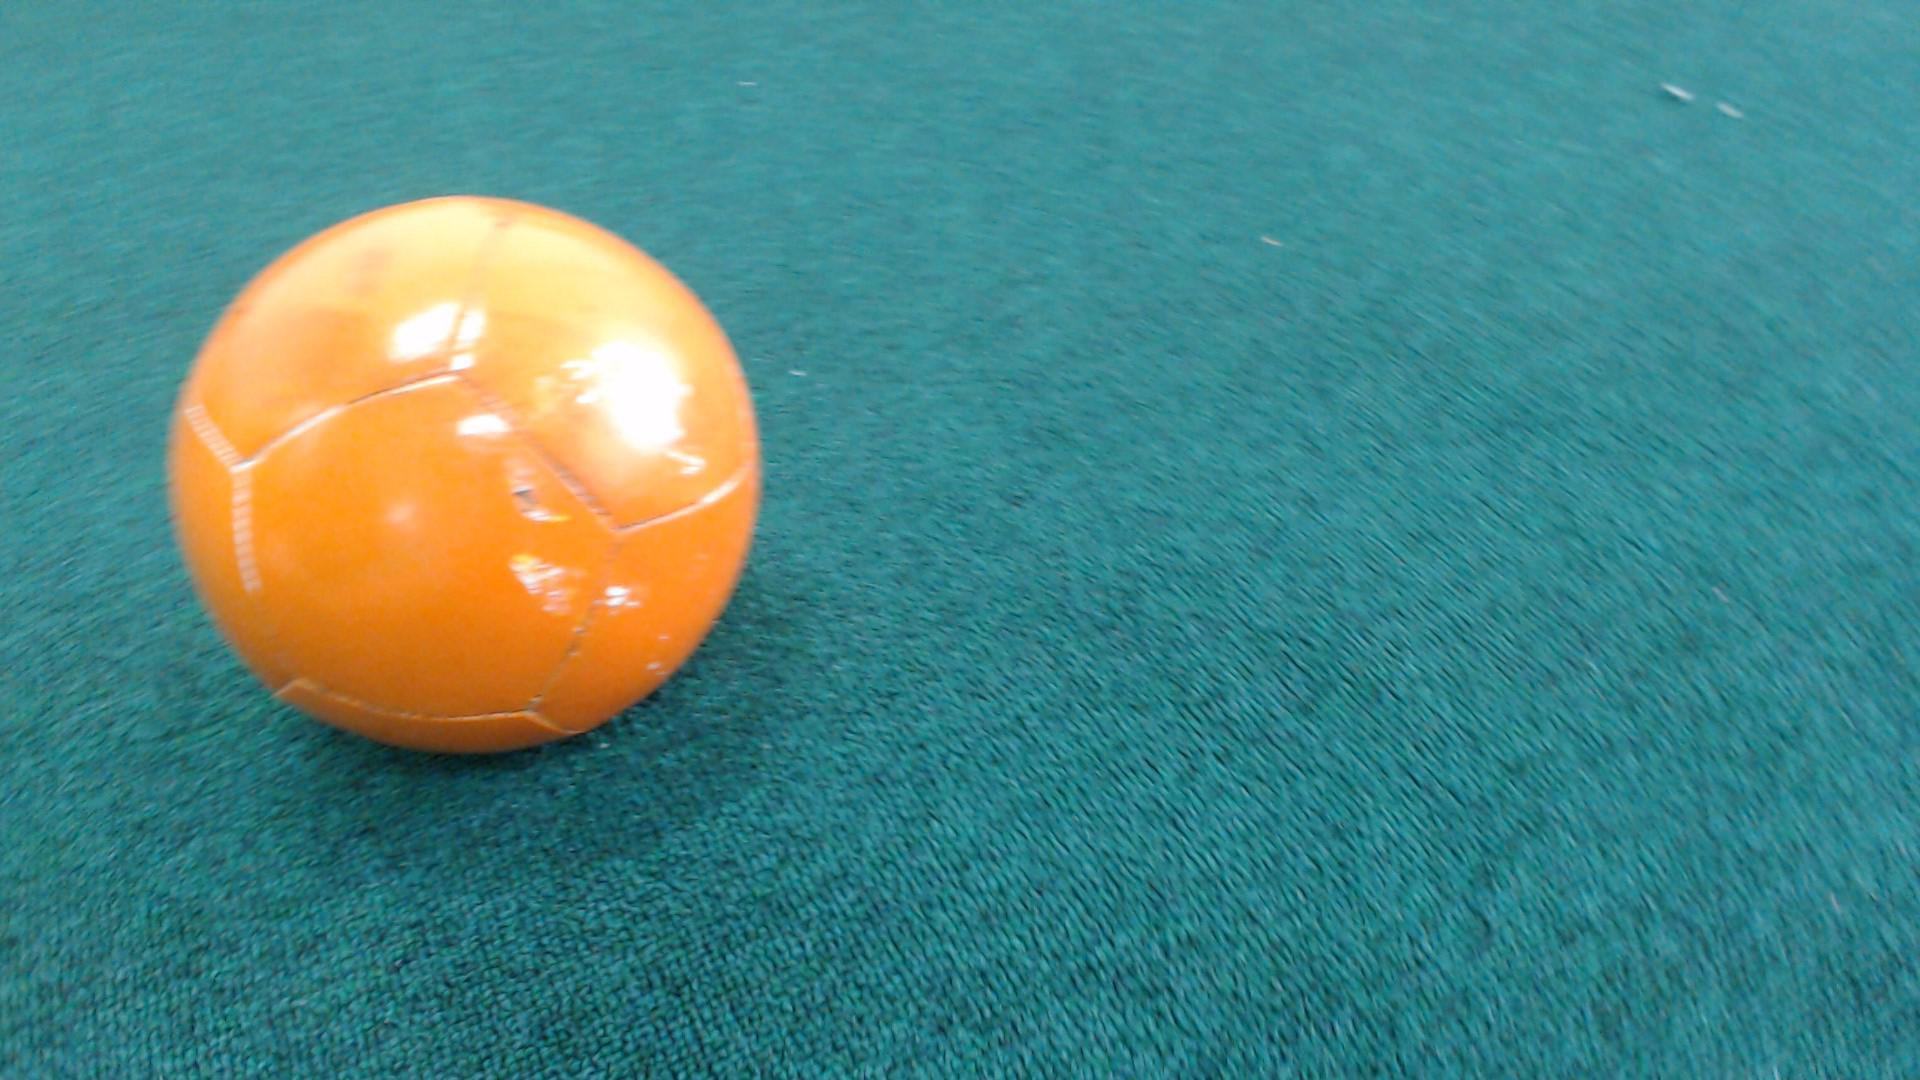bola: (145, 186, 794, 790)
